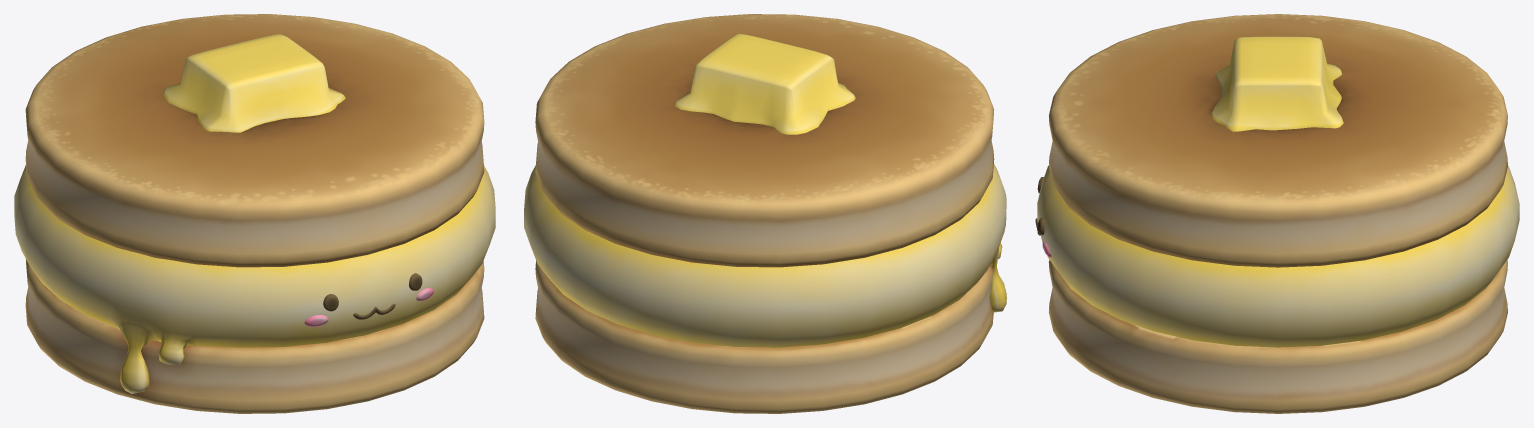
File: PancakeCat.fbx
3 renders of one model, left to right at view 1: azimuth 30°, elevation 25°; view 2: azimuth 150°, elevation 25°; view 3: azimuth 270°, elevation 25°, orthographic.
Parts seen in each view (by area): view 1: PancakeCat; view 2: PancakeCat; view 3: PancakeCat.
Boxes of the visible parts, x1=… form: PancakeCat: x1=14, y1=14, x2=495, y2=413; PancakeCat: x1=524, y1=14, x2=1006, y2=413; PancakeCat: x1=1035, y1=14, x2=1519, y2=413.
Bounding box in the file's own units: 0.4696 × 0.2832 × 0.4714.
